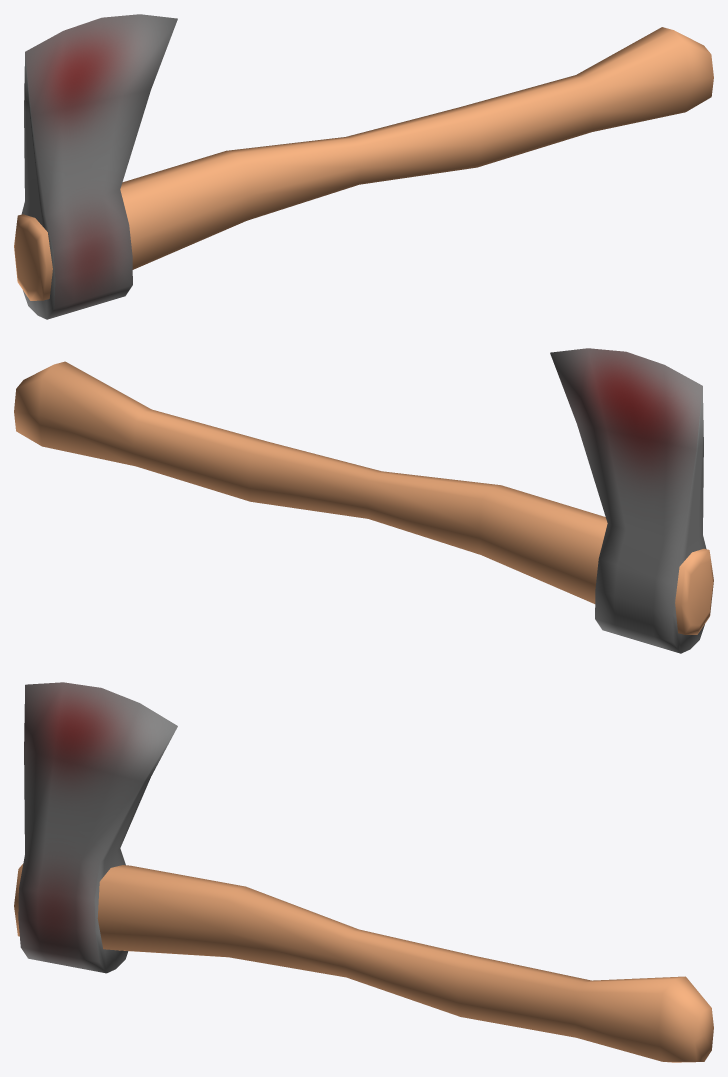
Rendered from Axe 1.fbx.
3 renders of one model, top to bottom at view 1: azimuth 30°, elevation 25°; view 2: azimuth 150°, elevation 25°; view 3: azimuth 330°, elevation 25°, orthographic.
Parts seen in each view (by area): view 1: AxeHandle, AxeHead; view 2: AxeHandle, AxeHead; view 3: AxeHandle, AxeHead.
Boxes of the visible parts, left/top/right/bottom form: AxeHandle: left=14, top=27, right=713, bottom=300; AxeHead: left=21, top=14, right=177, bottom=319; AxeHandle: left=14, top=361, right=713, bottom=634; AxeHead: left=550, top=348, right=706, bottom=653; AxeHandle: left=14, top=864, right=713, bottom=1062; AxeHead: left=18, top=682, right=177, bottom=973.
Bounding box in the file's own units: 529 × 210 × 50.01.
2 materials, 2 textured.
